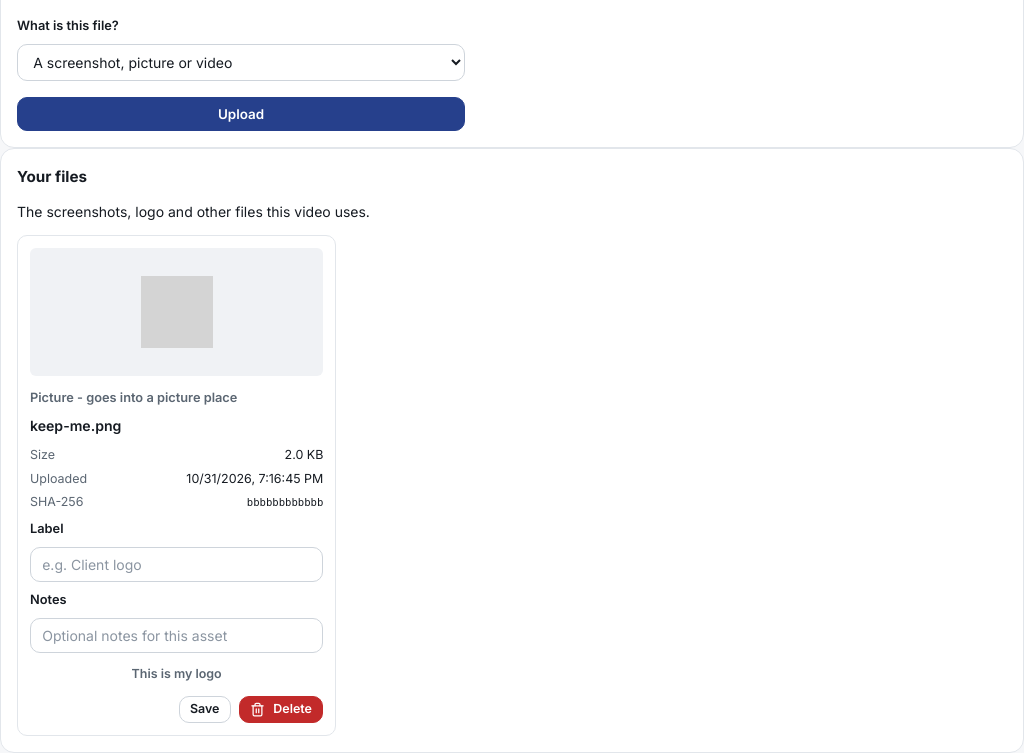
Scenario: ProjectAssetsTab › uses the danger button treatment for Delete and its confirm CTA, but never for Cancel (section J)
The image size is (1024, 753).
(page scrolled)
Check: the text "keep-me.png" is shown, box [30,417,121,434]
Click the button "Delete".
click(281, 710)  # box [239,696,323,723]
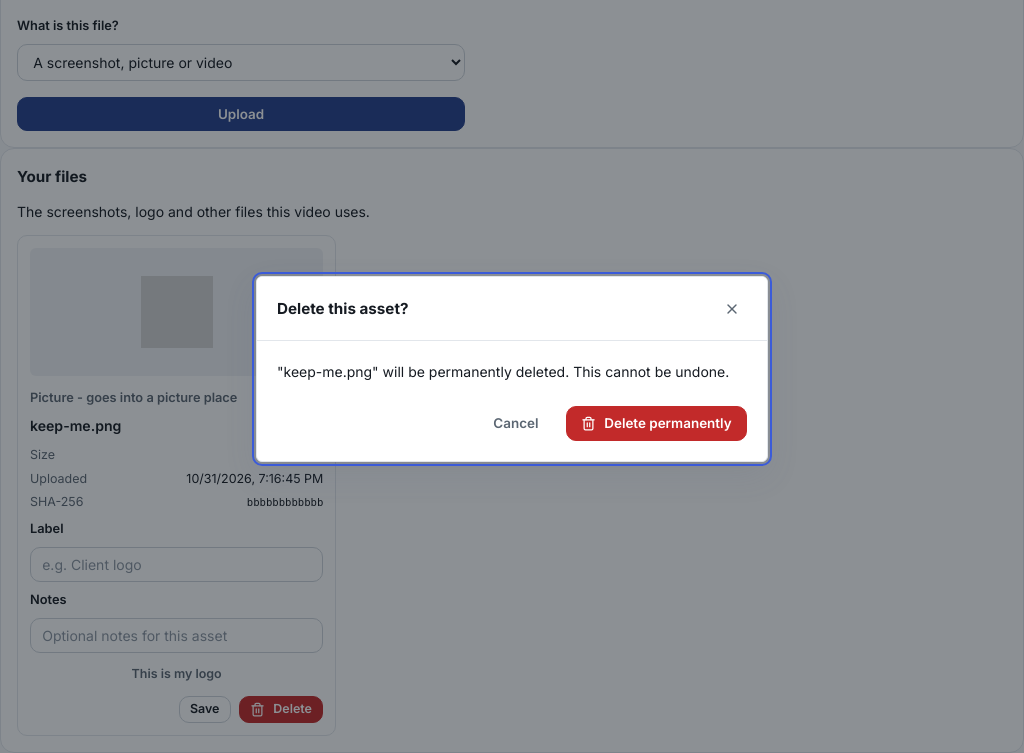
Check: the text "Delete this asset?" is shown, box [277,297,408,320]
